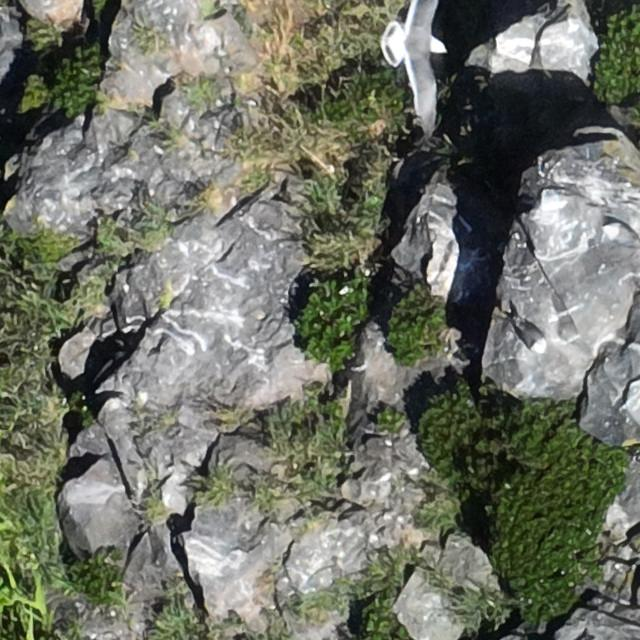F: (376, 0, 448, 116)
umineko: (512, 320, 549, 354), (604, 222, 640, 249)
